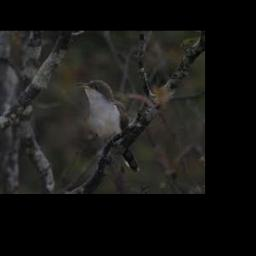Cuckoo: (75, 80, 141, 174)
